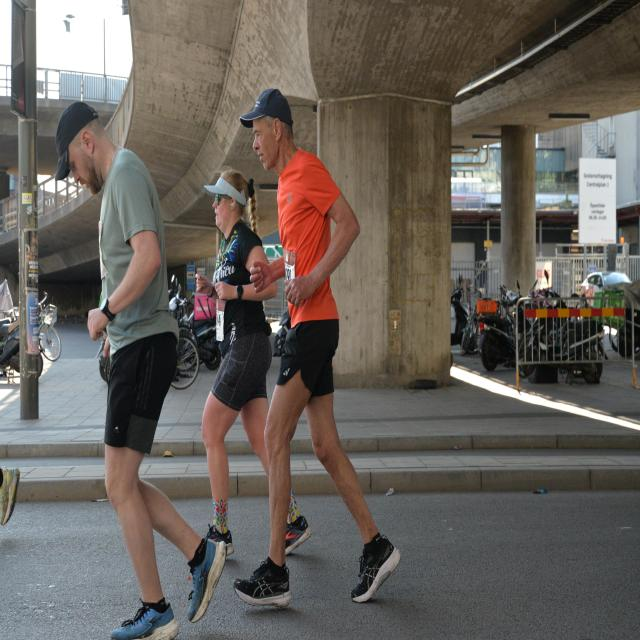runner-detect: (43, 83, 229, 640), (235, 80, 413, 614), (184, 155, 309, 572)
